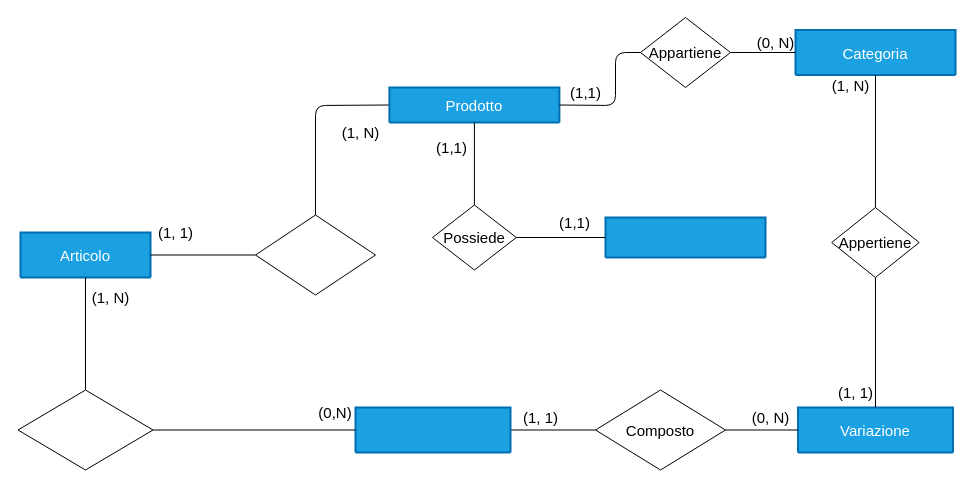
Image size: 973x488. Some labels were removed from this diagram. Here are the shapes that lost their labels. From the top down, the centre of each, then its label:
the point at 315,254: Si configura
the point at 685,237: Dimensione
the point at 85,429: Configurazione
the point at 432,429: Opzioni_Variazione
